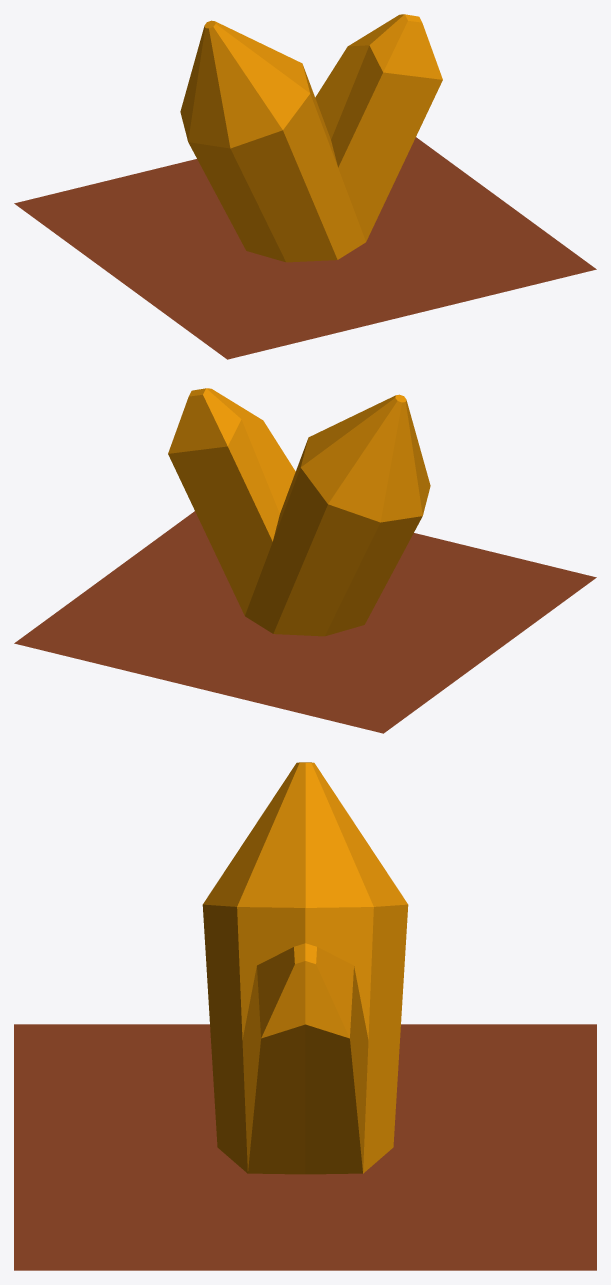
File: arany2.glb
3 views of the same model, one above another, from view 1: azimuth 30°, elevation 25°; view 2: azimuth 150°, elevation 25°; view 3: azimuth 270°, elevation 25° (orthographic). The views are drawn at different scales.
Parts seen in each view (by area): view 1: Plane.001, Plane; view 2: Plane.001, Plane; view 3: Plane.001, Plane.
Boxes of the visible parts, left/top/right/bottom form: Plane.001: left=14, top=137, right=596, bottom=359; Plane: left=180, top=14, right=442, bottom=262; Plane.001: left=14, top=511, right=596, bottom=733; Plane: left=168, top=388, right=430, bottom=636; Plane.001: left=14, top=1024, right=596, bottom=1270; Plane: left=202, top=762, right=408, bottom=1174.
Bounding box in the file's own units: 2 × 1.41 × 2.
